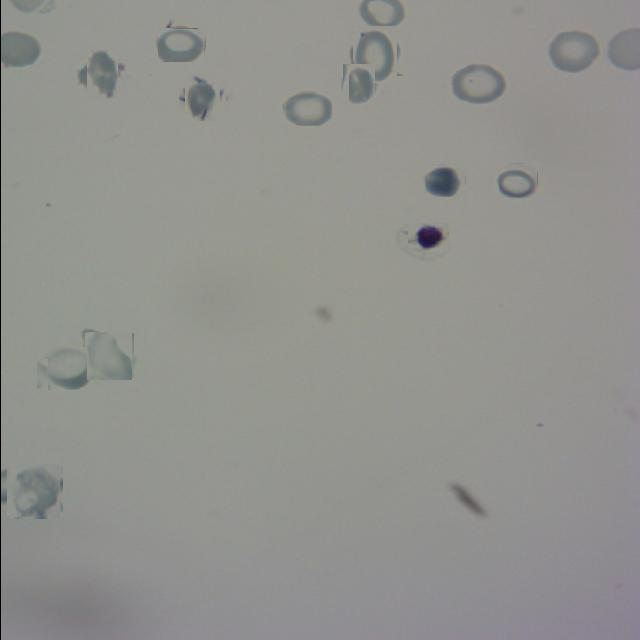difficult: (407, 222, 448, 252)
leukocyte: (8, 464, 60, 518), (446, 61, 508, 106), (36, 346, 96, 390), (348, 29, 399, 80), (550, 27, 601, 71), (85, 332, 132, 379), (180, 76, 222, 118), (80, 54, 121, 95), (283, 92, 332, 126), (156, 28, 204, 62), (340, 66, 378, 105), (498, 163, 537, 198), (424, 164, 465, 197)
